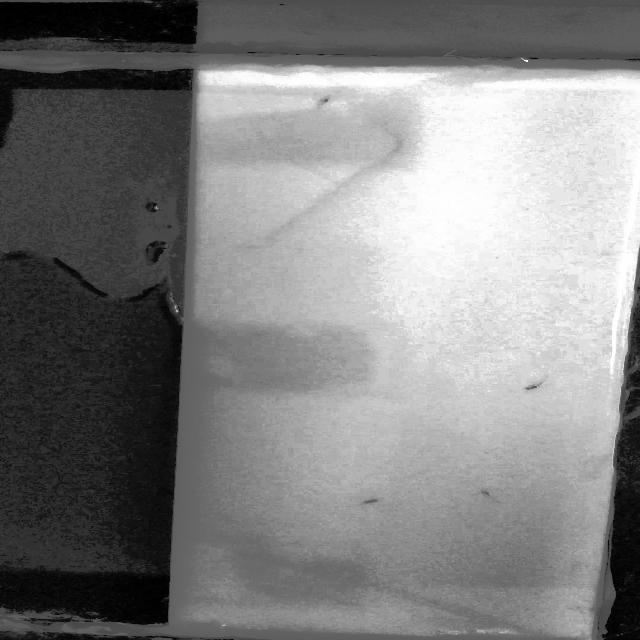shrimp: (516, 381, 551, 396), (315, 95, 338, 110), (354, 494, 387, 504), (482, 488, 499, 503)
